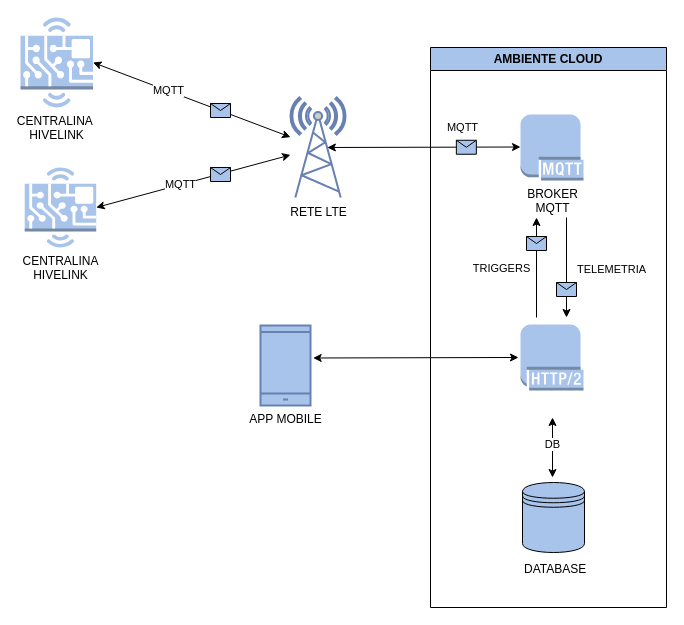
This 684x625 diagram has some shape labels left out. Here are the shapes that lost their labels. From the top down, the centre of each, then its label:
At (x=552, y=357): "API SERVER".
At (x=553, y=517): "MongoDB".
